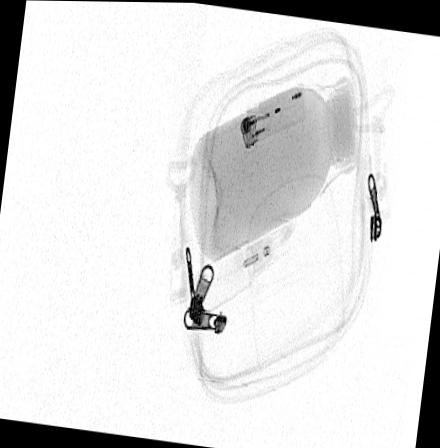Lighter: (239, 82, 306, 149)
